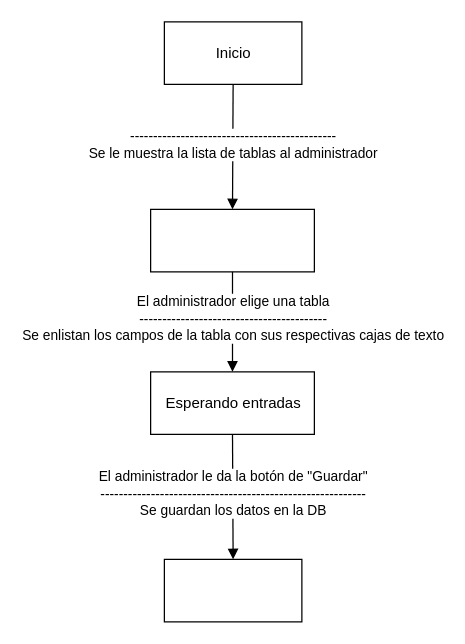
Some shapes in this 465 by 644 pixel diagram are drawn without their labels. The shapes that lost their labels are listed below. From the top down, each one's centre as x and y in pixels, then its label:
At (x=231, y=240): "Esperando selección de tabla".
At (x=232, y=590): "Fin".
